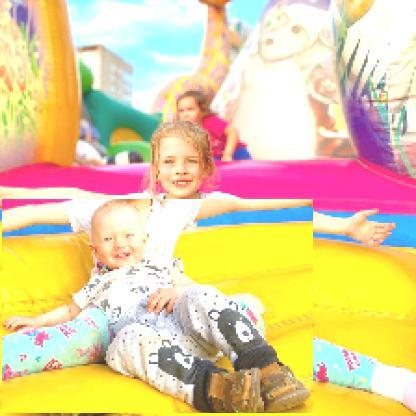child: (3, 200, 315, 415), (1, 121, 399, 258)
